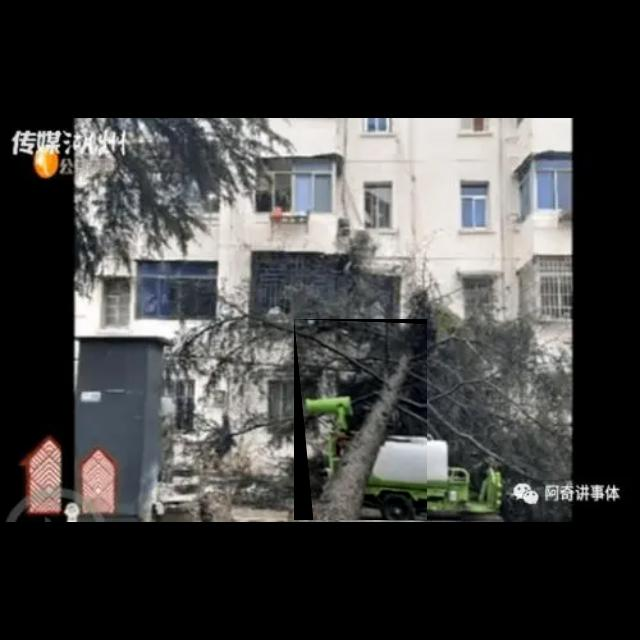Fallen Tree: (294, 319, 428, 521)
